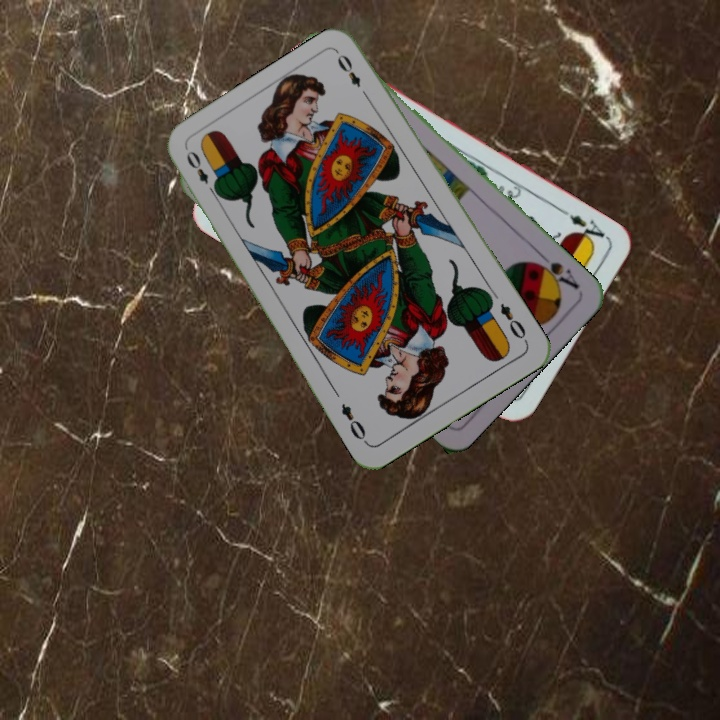EA: (559, 206, 612, 248)
EO: (182, 146, 221, 199), (496, 299, 531, 345)
SA: (528, 248, 582, 292)
